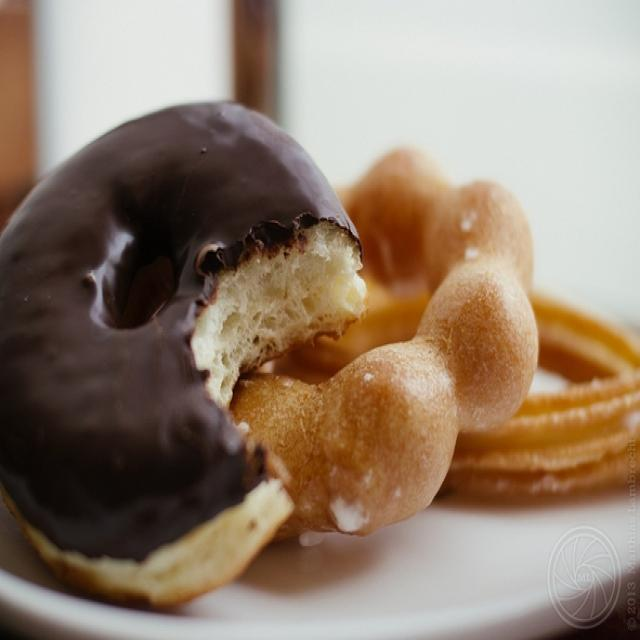炸货点心: (15, 47, 608, 617)
